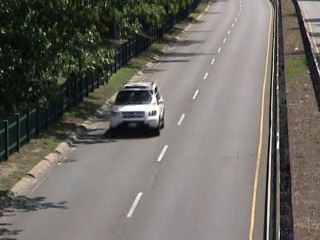car: (106, 78, 173, 138)
